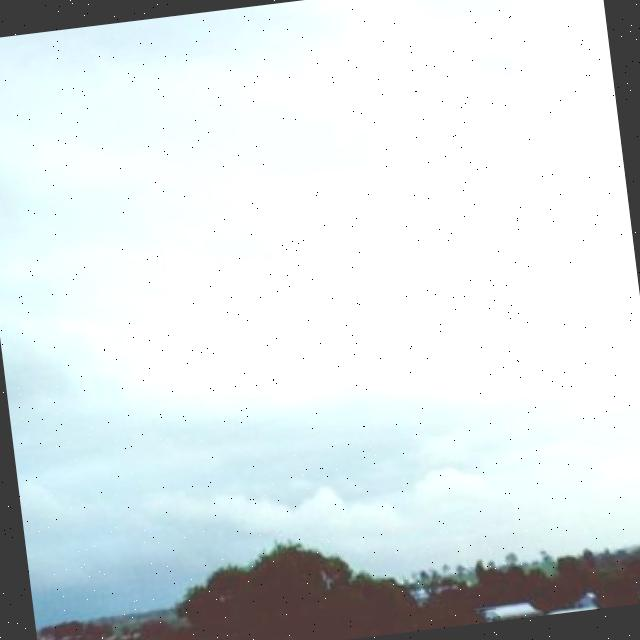Sc: (1, 50, 640, 552)
